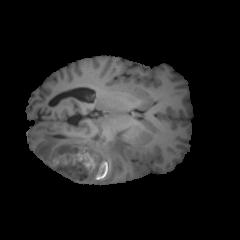glioma: (37, 128, 131, 183)
